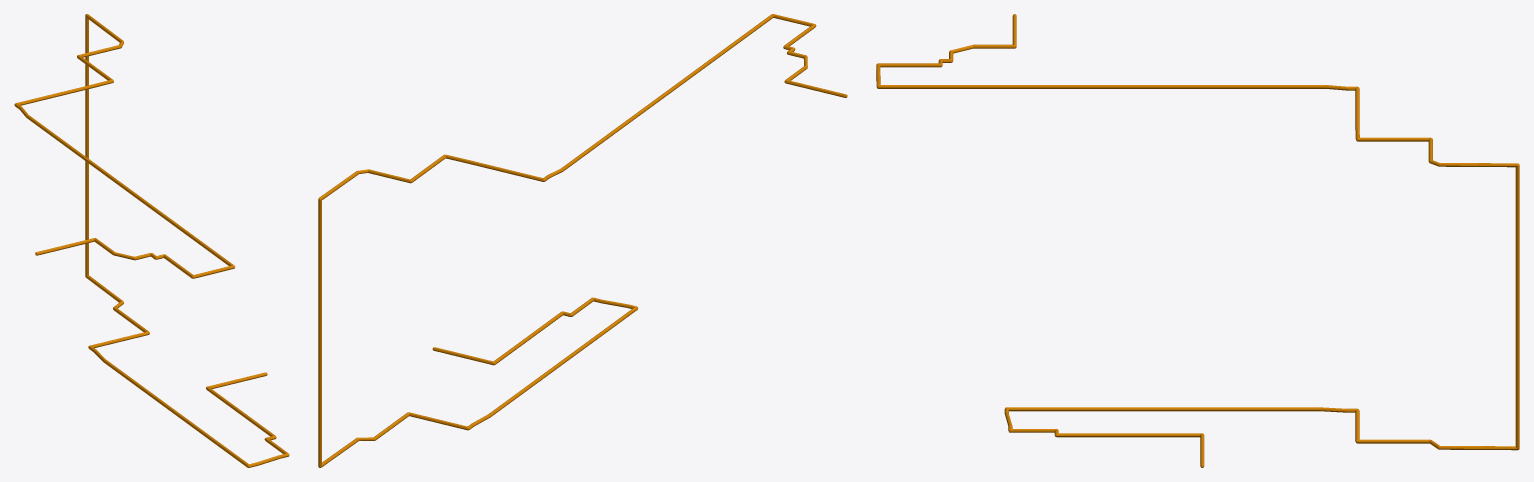
3 views of the same model, side by side, from view 1: azimuth 30°, elevation 25°; view 2: azimuth 150°, elevation 25°; view 3: azimuth 270°, elevation 25° (orthographic). The views are drawn at different scales.
Size of the model in its own units: 1920 by 1520 by 3092.
